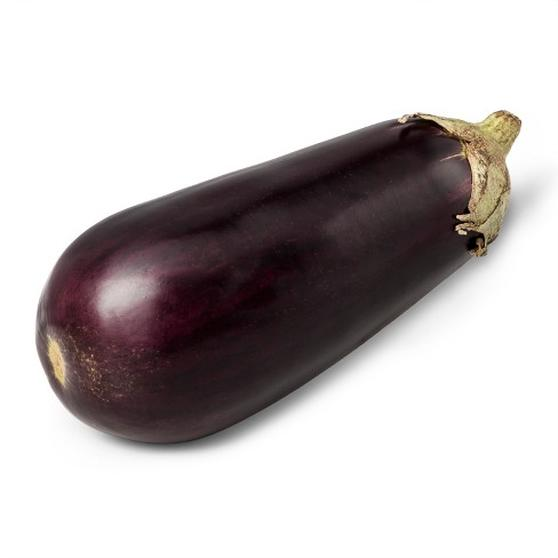eggplant: (42, 112, 523, 456)
